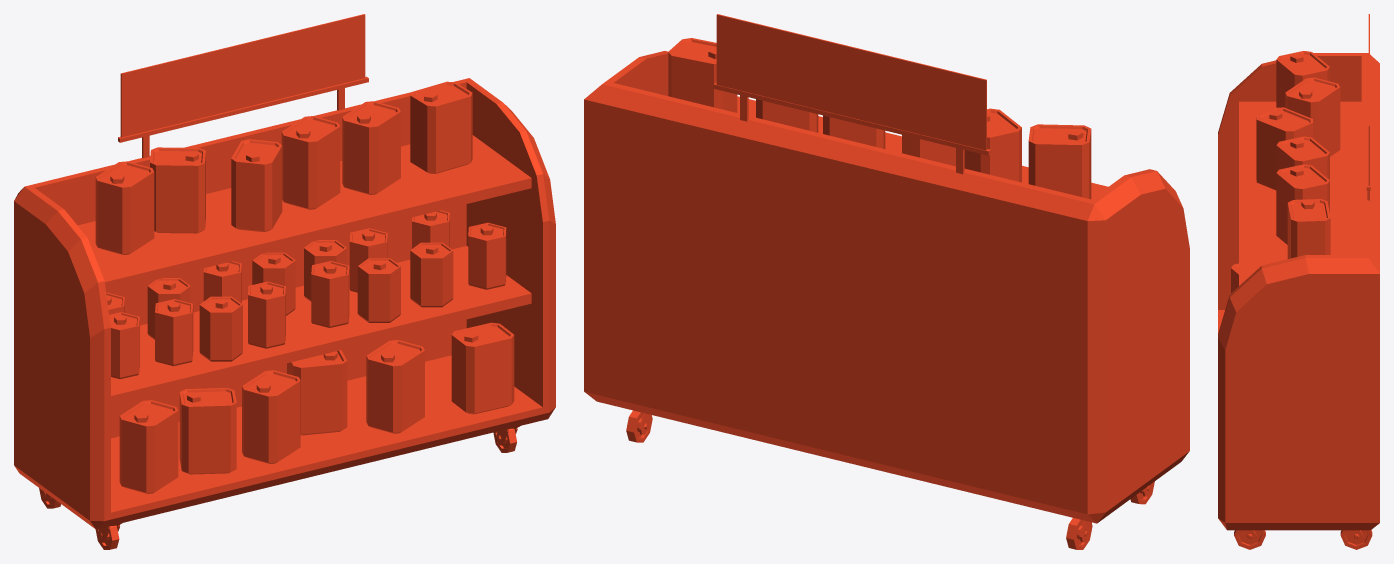
Rendered from SM_Shelf_B_City.fbx.
The picture shows the model from 3 angles, left to right: view 1: azimuth 30°, elevation 25°; view 2: azimuth 150°, elevation 25°; view 3: azimuth 270°, elevation 25°; orthographic projection. The views are drawn at different scales.
Visible parts, largest first — view 1: SM_Shelf_B_City; view 2: SM_Shelf_B_City; view 3: SM_Shelf_B_City.
Part boxes in pixels (left/top/right/bottom): SM_Shelf_B_City: left=14, top=14, right=555, bottom=549; SM_Shelf_B_City: left=584, top=14, right=1189, bottom=549; SM_Shelf_B_City: left=1218, top=14, right=1379, bottom=549.
Bounding box in the file's own units: 1.57 × 1.32 × 0.5014.
